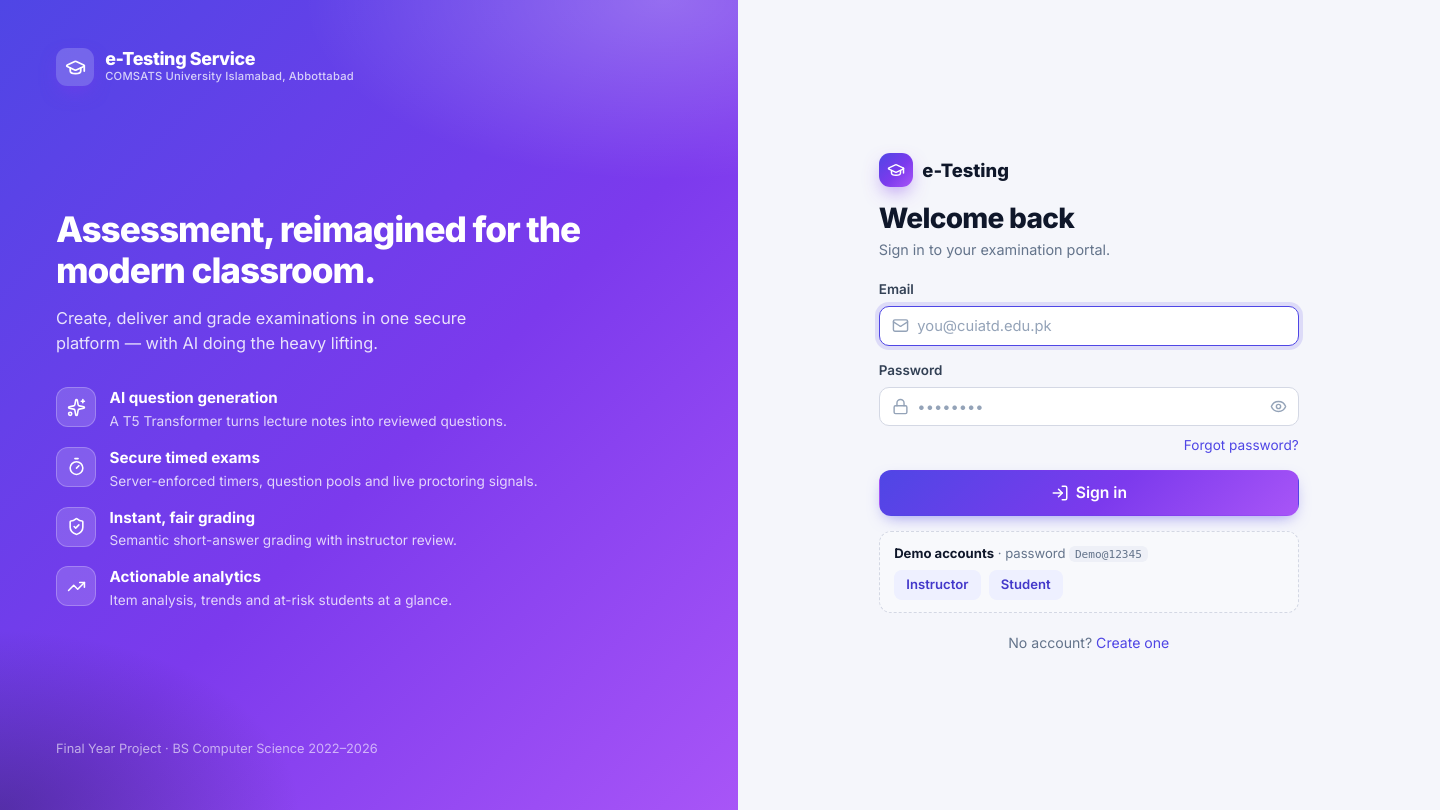
Test: Login page › shows the server message on failure (e.g. a locked account)
The width and height of the screenshot is (1440, 810).
Type "a@b.edu" into the field labelled "Email" at (1089, 326), box [879, 306, 1299, 346]
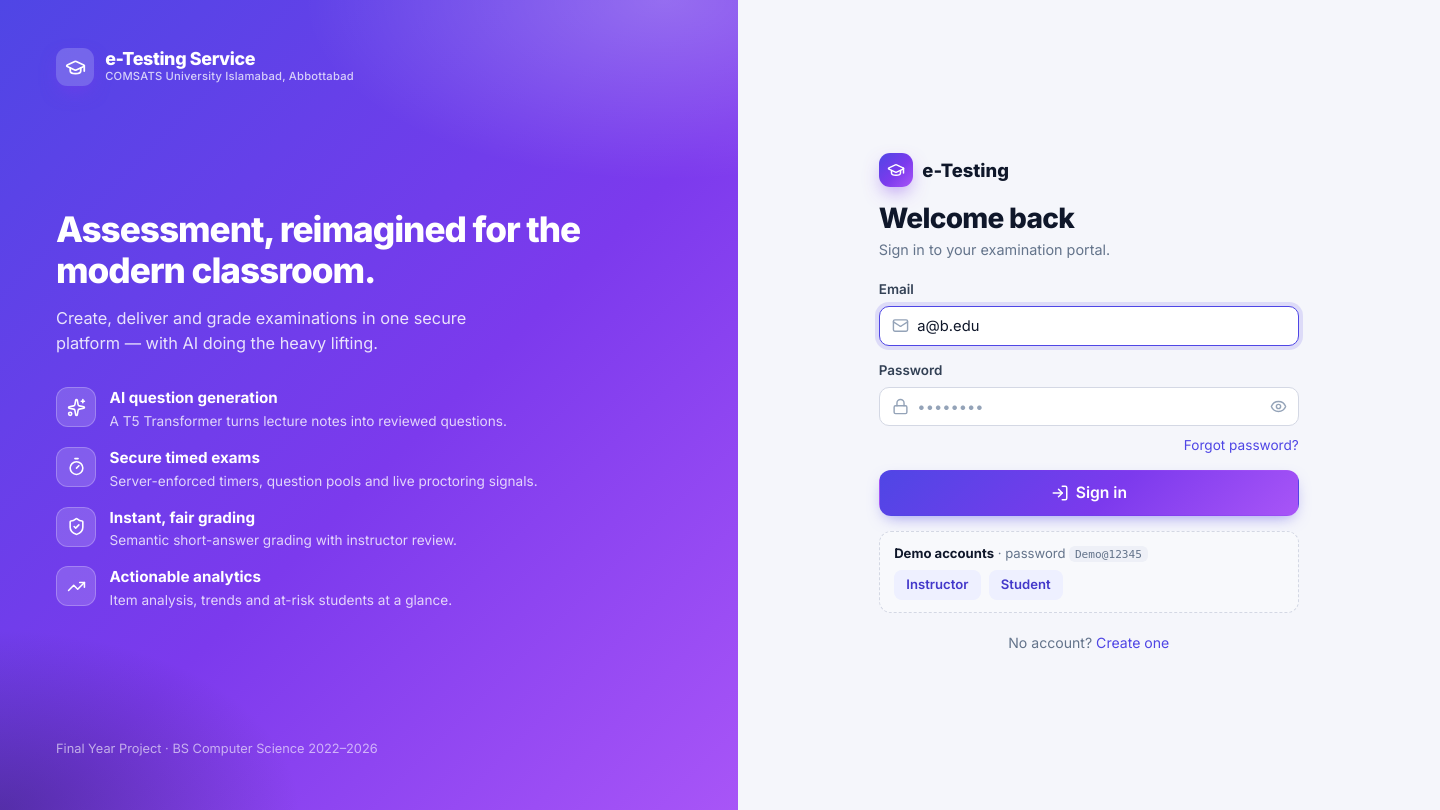
Type "x" into the password field labelled "Password" at (1089, 407), box [879, 387, 1299, 426]
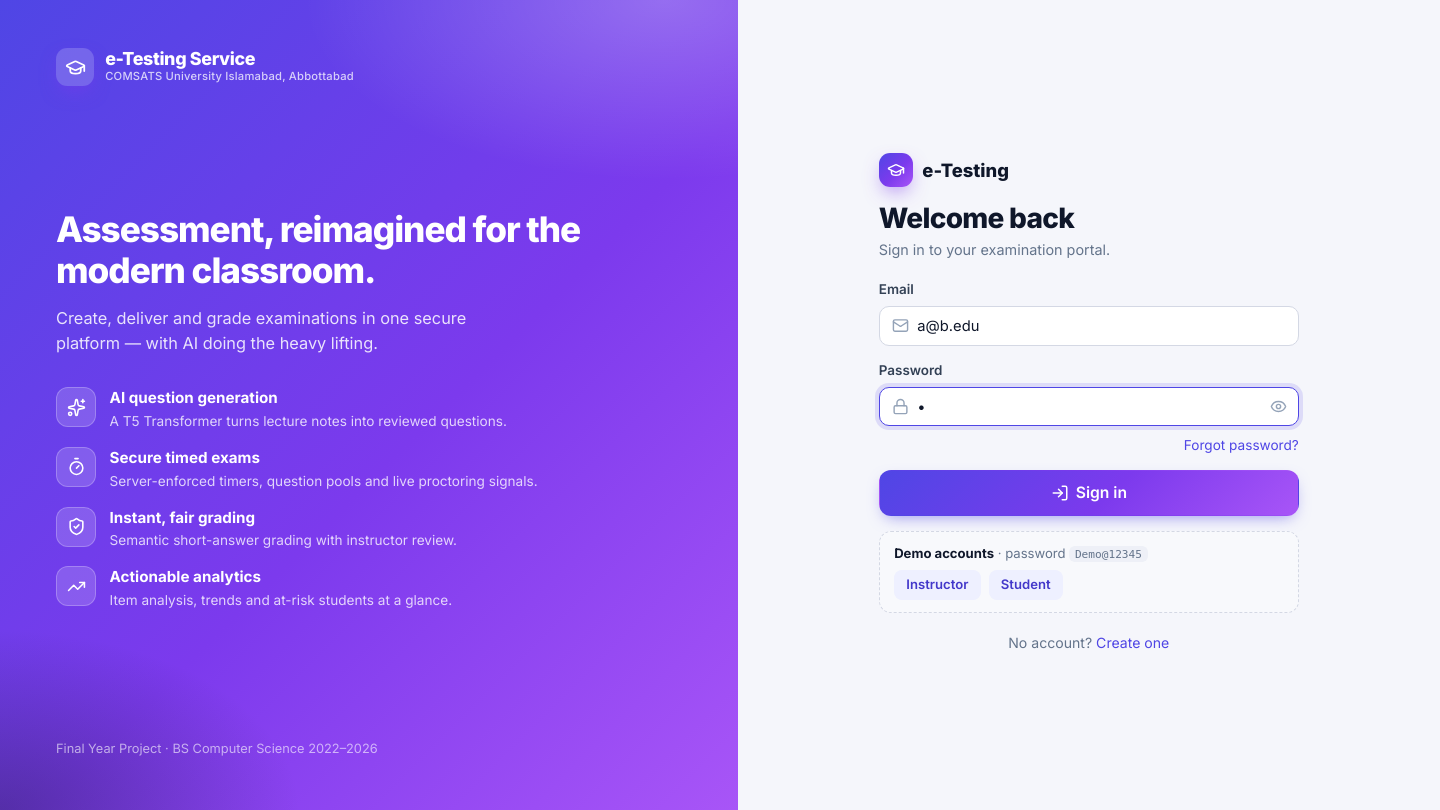
Click the button "Sign in" at (1089, 493), box [879, 470, 1299, 516]
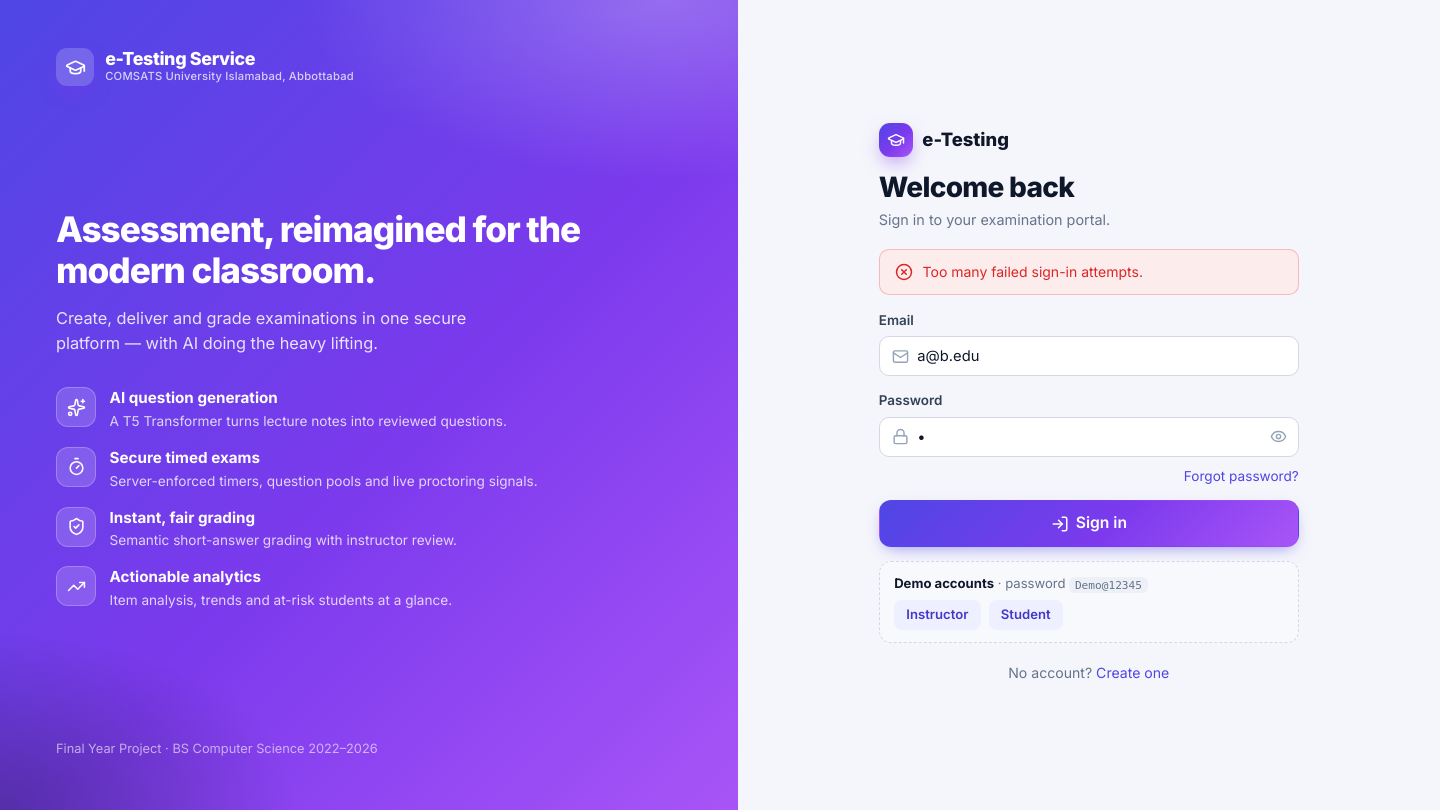
Check: the text "Too many failed sign-in attempts." is shown, box [922, 262, 1143, 282]
